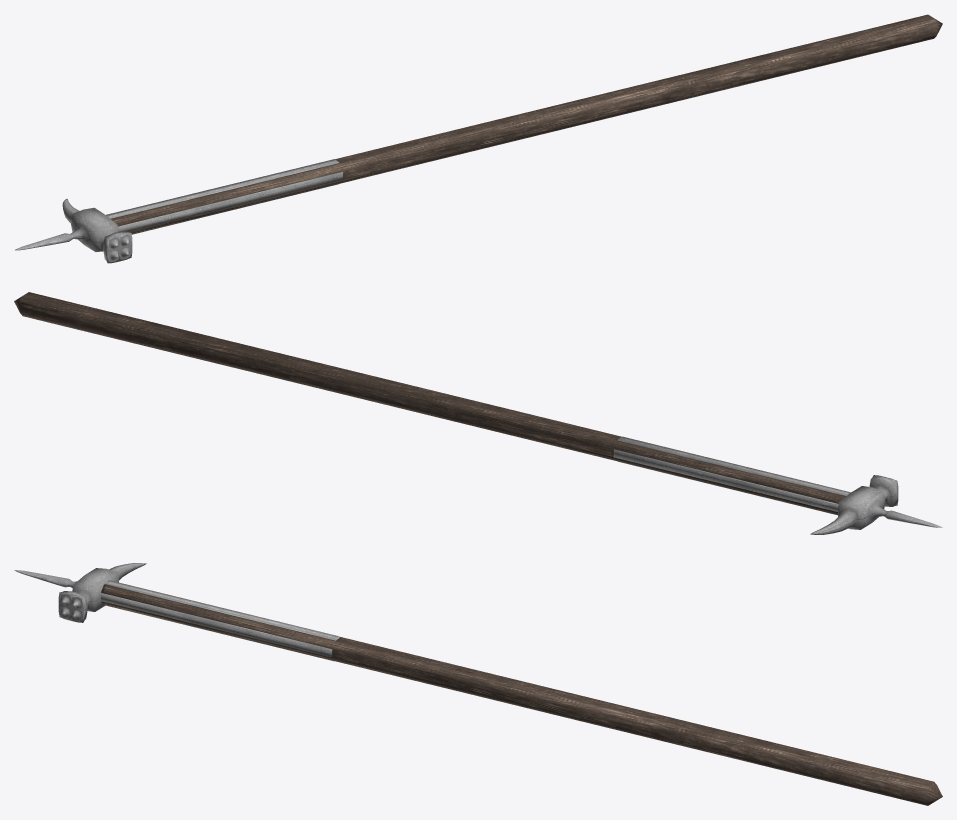
File: wp_polehammer.glb
The picture shows the model from 3 angles, top to bottom: view 1: azimuth 30°, elevation 25°; view 2: azimuth 150°, elevation 25°; view 3: azimuth 330°, elevation 25°; orthographic projection.
Parts seen in each view (by area): view 1: arms.001; view 2: arms.001; view 3: arms.001.
Part boxes in pixels (x1=…): arms.001: x1=15, y1=14, x2=942, y2=263; arms.001: x1=14, y1=292, x2=942, y2=534; arms.001: x1=14, y1=563, x2=942, y2=805.
Bounding box in the file's own units: 6.44 × 0.175 × 0.809.
Materials: 1 (1 with a texture image).
